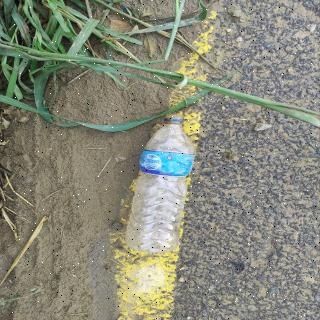Plastic-bottle: (122, 111, 199, 257)
